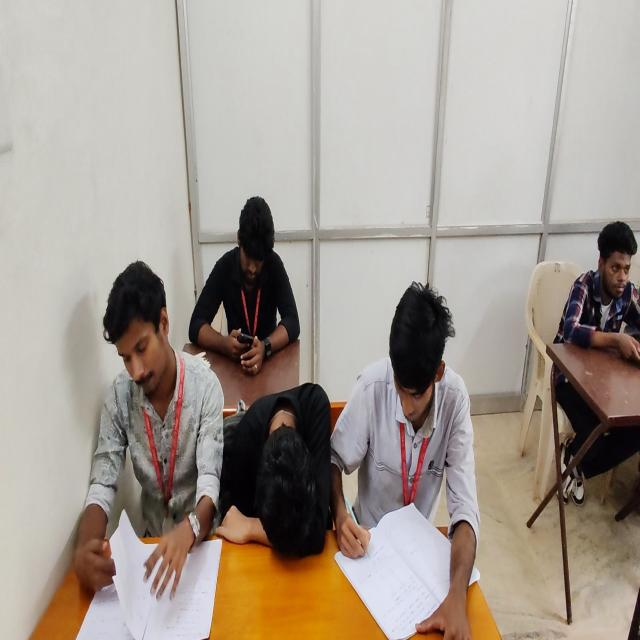reading: (74, 262, 226, 604)
sleeping: (215, 378, 331, 560)
using_mobile: (551, 220, 640, 510), (188, 194, 302, 374)
writing: (336, 279, 476, 640)
